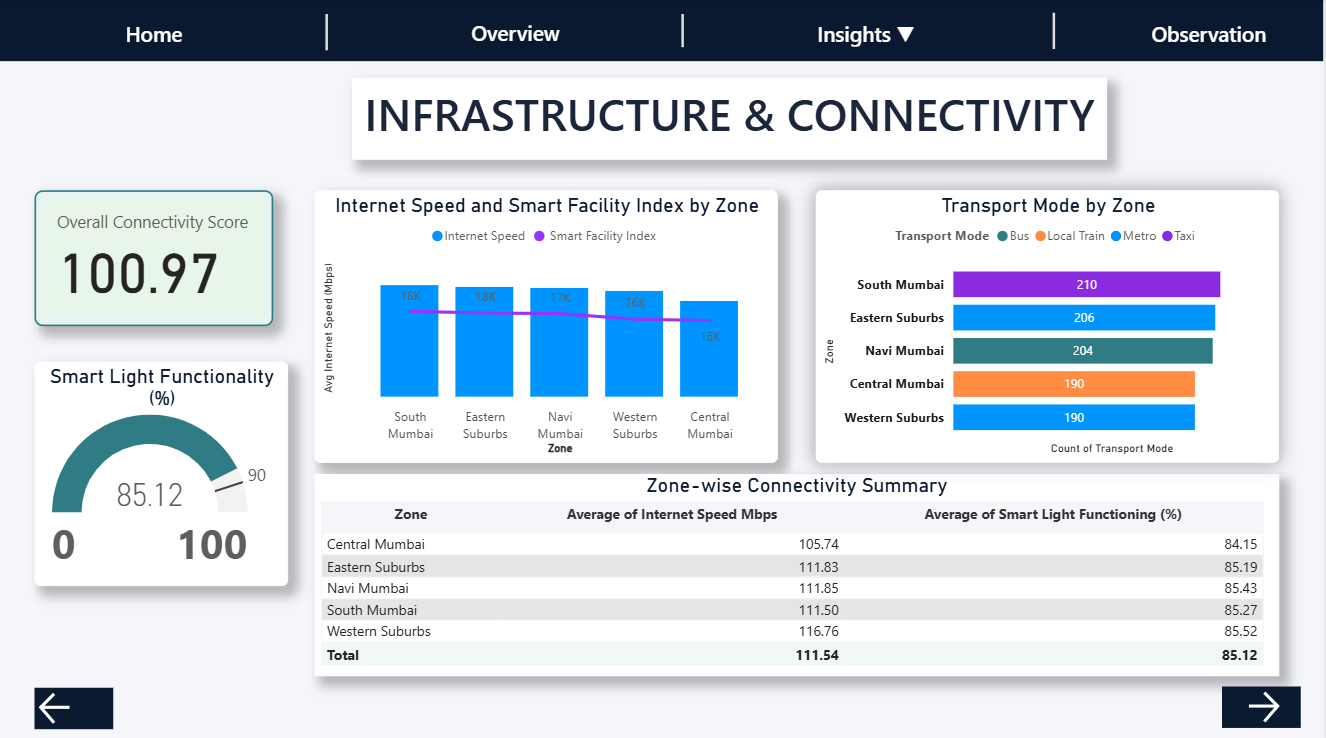

Layout of this report page (visuals, bound fields, positions):
{"tool":"powerbi","page":{"name":"INFRASTRUCTURE & CONNECTIVITY","canvas":[1280,720],"ordinal":3},"visuals":[{"type":"textbox","box":[342.6,76,729,79],"z":0},{"type":"lineStackedColumnComboChart","fields":{"Category":["Sheet1.Zone"],"Y":["Sum(Sheet1.Internet Speed Mbps)"],"Y2":["Sum(Sheet1.Smart Light Functioning (%))"]},"box":[306.4,184.6,447.6,263],"z":1000},{"type":"gauge","title":"Smart Light Functionality (%)","fields":{"Y":["Avg(Sheet1.Smart Light Functioning (%))"]},"box":[36.2,349.9,244.9,217.2],"z":2000},{"type":"cardVisual","fields":{"Data":["Sheet1.Connectivity_Score"]},"box":[36.2,184.6,230.4,131.5],"z":3000},{"type":"tableEx","title":"Zone-wise Connectivity Summary","fields":{"Values":["Sheet1.Zone","Avg(Sheet1.Internet Speed Mbps)","Avg(Sheet1.Smart Light Functioning (%))"]},"box":[306.4,458.4,931.4,195.4],"z":4000},{"type":"barChart","title":"Transport Mode by Zone","fields":{"Category":["Sheet1.Zone"],"Y":["CountNonNull(Sheet1.Transport Mode)"],"Series":["Sheet1.Transport Mode"]},"box":[790.2,184.6,447.6,263],"z":5000},{"type":"shape","box":[0,0,1280,60.3],"z":6000},{"type":"shape","box":[511.5,14.5,300.4,32],"z":7000},{"type":"shape","box":[167.7,14.5,301,35],"z":8000},{"type":"shape","box":[869.8,13.3,300.4,35],"z":9000},{"type":"actionButton","title":"Introduction","box":[436.7,12.1,127,39.8],"z":10000},{"type":"actionButton","title":"Home","box":[101.3,13.3,100.1,39.8],"z":11000},{"type":"actionButton","title":"Conclusion","box":[1108.7,13.3,121.9,39.8],"z":12000},{"type":"actionButton","title":"Dashboard ▼","box":[767.3,13.3,142.4,39.8],"z":13000},{"type":"actionButton","box":[1181.9,663.9,75.9,39.8],"z":14000},{"type":"actionButton","box":[36.1,665.1,75.9,39.8],"z":15000}]}

Visuals, with their boxes in screenshot pixels (x1, y1, x2, y2), scaled from the page's 1280x720 canvas onto the 1326x738 screenshot:
textbox: box=[355, 78, 1110, 159]
lineStackedColumnComboChart - Sheet1.Zone x Sum(Sheet1.Internet Speed Mbps): box=[317, 189, 781, 459]
"Smart Light Functionality (%)" gauge: box=[38, 359, 291, 581]
cardVisual - Sheet1.Connectivity_Score: box=[38, 189, 276, 324]
"Zone-wise Connectivity Summary" tableEx: box=[317, 470, 1282, 670]
"Transport Mode by Zone" barChart: box=[819, 189, 1282, 459]
shape: box=[0, 0, 1325, 62]
shape: box=[530, 15, 841, 48]
shape: box=[174, 15, 486, 51]
shape: box=[901, 14, 1212, 50]
"Introduction" actionButton: box=[452, 12, 584, 53]
"Home" actionButton: box=[105, 14, 209, 54]
"Conclusion" actionButton: box=[1149, 14, 1275, 54]
"Dashboard ▼" actionButton: box=[795, 14, 942, 54]
actionButton: box=[1224, 680, 1303, 721]
actionButton: box=[37, 682, 116, 723]
